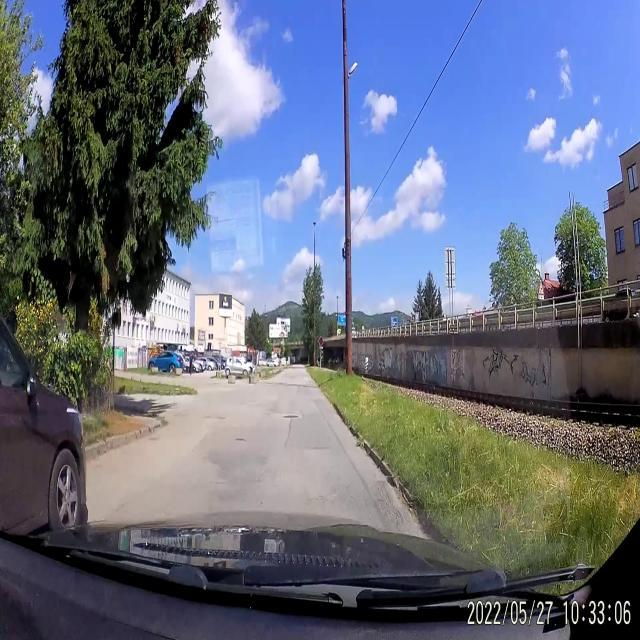Manhole: (283, 410, 300, 422)
Pothole: (234, 434, 246, 448)
